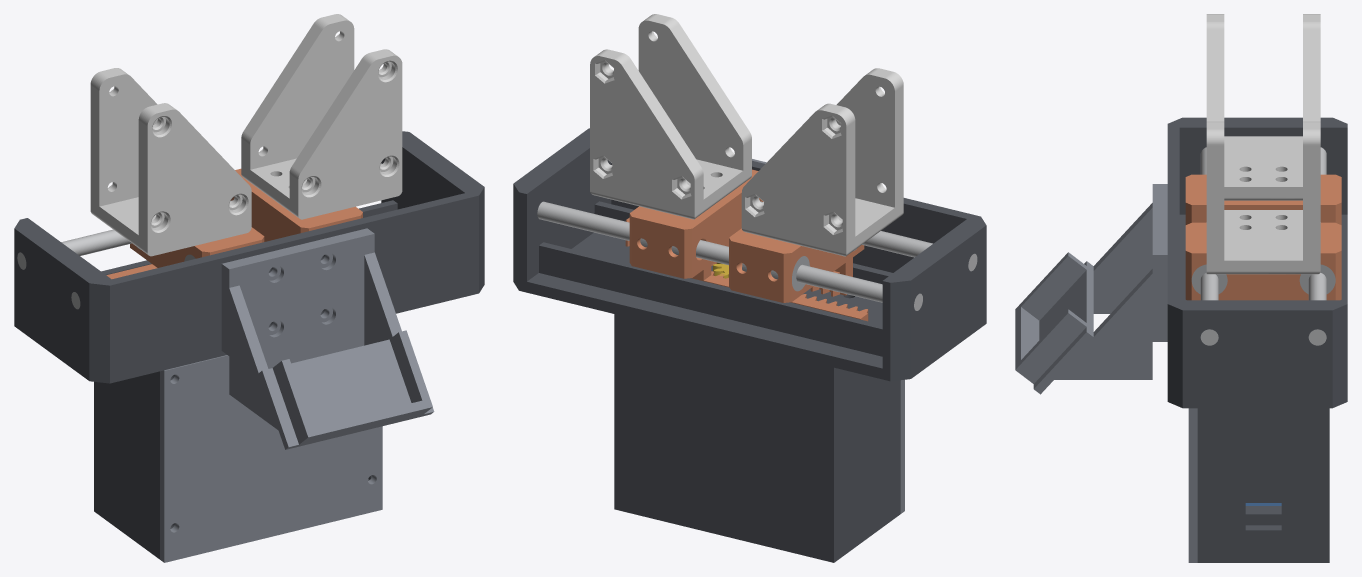
The model's file is openarm_unit_closed.glb.
The picture shows the model from 3 angles, left to right: view 1: azimuth 30°, elevation 25°; view 2: azimuth 150°, elevation 25°; view 3: azimuth 270°, elevation 25°; orthographic projection.
Visible parts, largest first — view 1: frame, cam_d405_cradle, servo_cradle_lid, tip_R, tip_L, servo_cradle, carriage_R, carriage_L, rod_bottom; view 2: servo_cradle, frame, tip_R, tip_L, carriage_R, carriage_L, rod_bottom, rod_top, servo_cradle_lid; view 3: frame, servo_cradle, cam_d405_cradle, tip_R, tip_L, carriage_R, carriage_L, servo_cradle_lid, rod_bottom, rod_top, lm6uu_R_top, lm6uu_R_bottom.
Part boxes in pixels (bbox=[...]): frame: bbox=[14, 131, 484, 383]; cam_d405_cradle: bbox=[221, 228, 434, 449]; servo_cradle_lid: bbox=[160, 323, 382, 562]; tip_R: bbox=[241, 14, 402, 219]; tip_L: bbox=[90, 68, 251, 256]; servo_cradle: bbox=[94, 371, 372, 559]; carriage_R: bbox=[106, 168, 362, 279]; carriage_L: bbox=[130, 227, 264, 267]; rod_bottom: bbox=[17, 164, 381, 269]; servo_cradle: bbox=[614, 314, 900, 562]; frame: bbox=[513, 128, 986, 381]; tip_R: bbox=[590, 14, 751, 219]; tip_L: bbox=[741, 68, 903, 256]; carriage_R: bbox=[629, 169, 868, 321]; carriage_L: bbox=[625, 217, 864, 302]; rod_bottom: bbox=[537, 201, 922, 310]; rod_top: bbox=[760, 201, 977, 271]; servo_cradle_lid: bbox=[900, 379, 904, 513]; frame: bbox=[1167, 117, 1347, 408]; servo_cradle: bbox=[1197, 408, 1329, 562]; cam_d405_cradle: bbox=[1015, 184, 1167, 394]; tip_R: bbox=[1206, 121, 1320, 274]; tip_L: bbox=[1206, 14, 1320, 200]; carriage_R: bbox=[1185, 222, 1341, 300]; carriage_L: bbox=[1185, 174, 1341, 224]; servo_cradle_lid: bbox=[1188, 408, 1197, 562]; rod_bottom: bbox=[1308, 147, 1326, 345]; rod_top: bbox=[1200, 147, 1218, 345]; lm6uu_R_top: bbox=[1191, 264, 1227, 294]; lm6uu_R_bottom: bbox=[1299, 264, 1335, 294].
Size of the model in its own units: 0.152 by 0.1627 by 0.1108.
